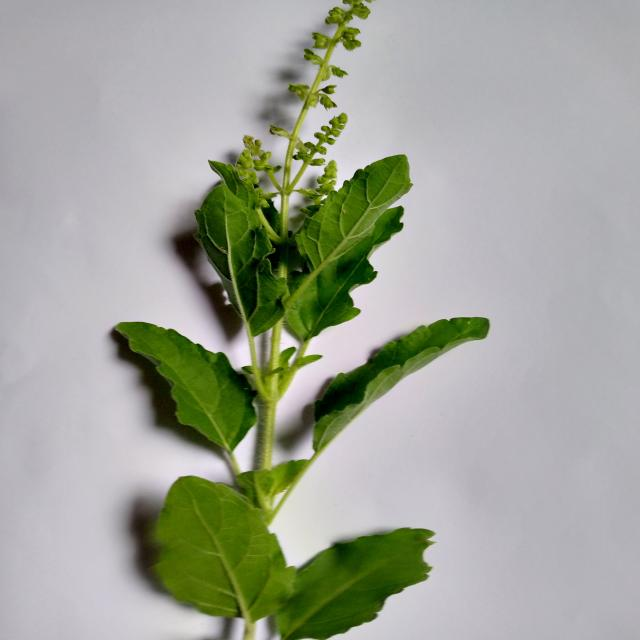tulsi: (110, 0, 502, 640)
